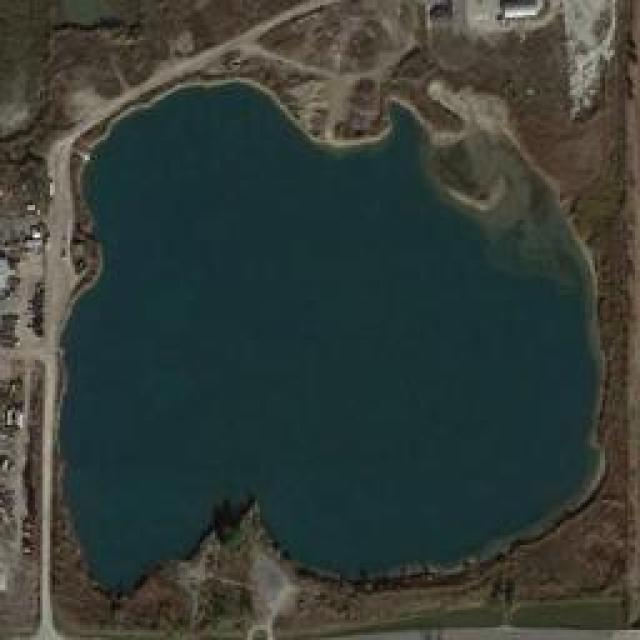Lake: (7, 70, 638, 638)
